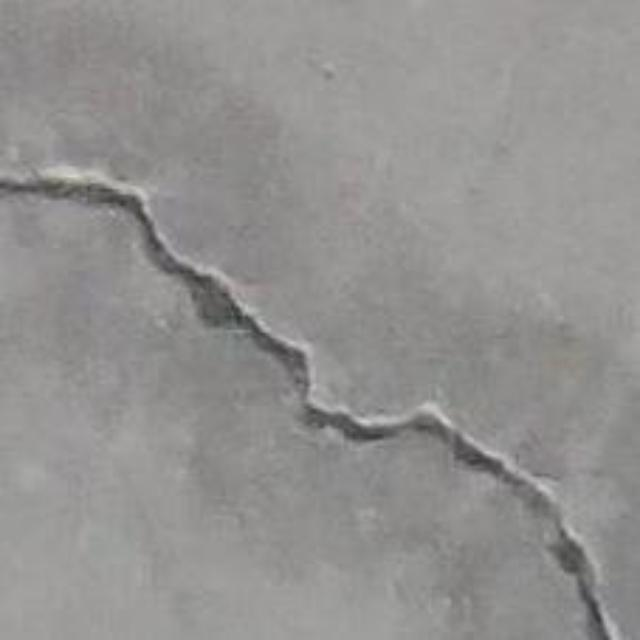crack: (0, 172, 620, 639)
